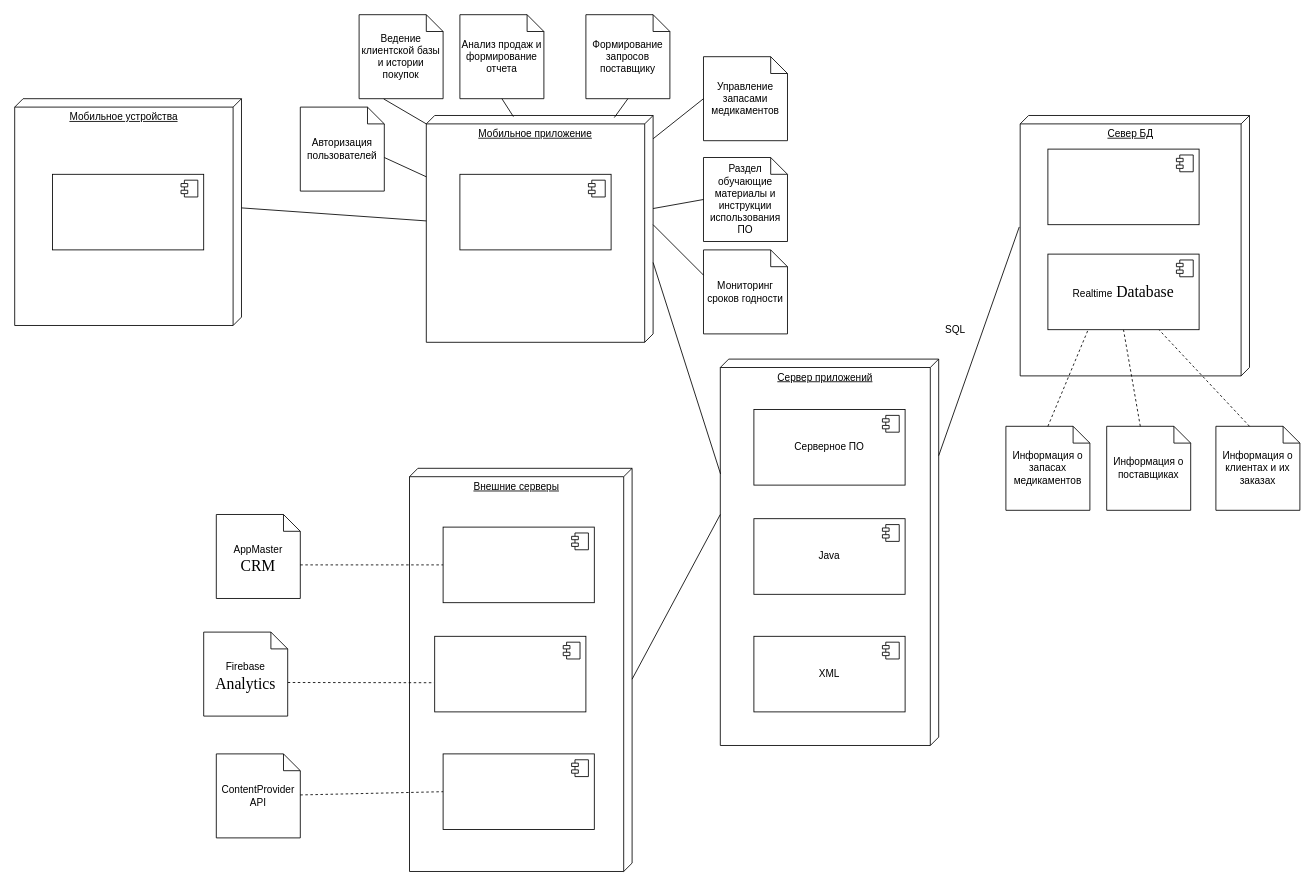
Some shapes in this 1315 by 886 pixel diagram are drawn without their labels. The centre of each missing label's shape, as x and y in pixels:
Android: (x=128, y=211)
CRM-система: (x=518, y=564)
FireBase: (x=1123, y=186)
Анализ и формирование отчета: (x=510, y=673)
Интерфейс: (x=535, y=211)
Формирование запросов у поставщиков: (x=518, y=791)
